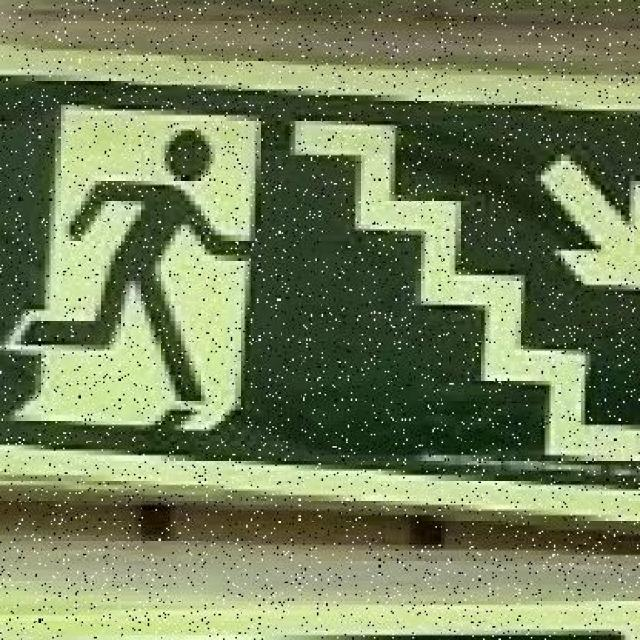emergency_exit: (1, 71, 639, 506)
